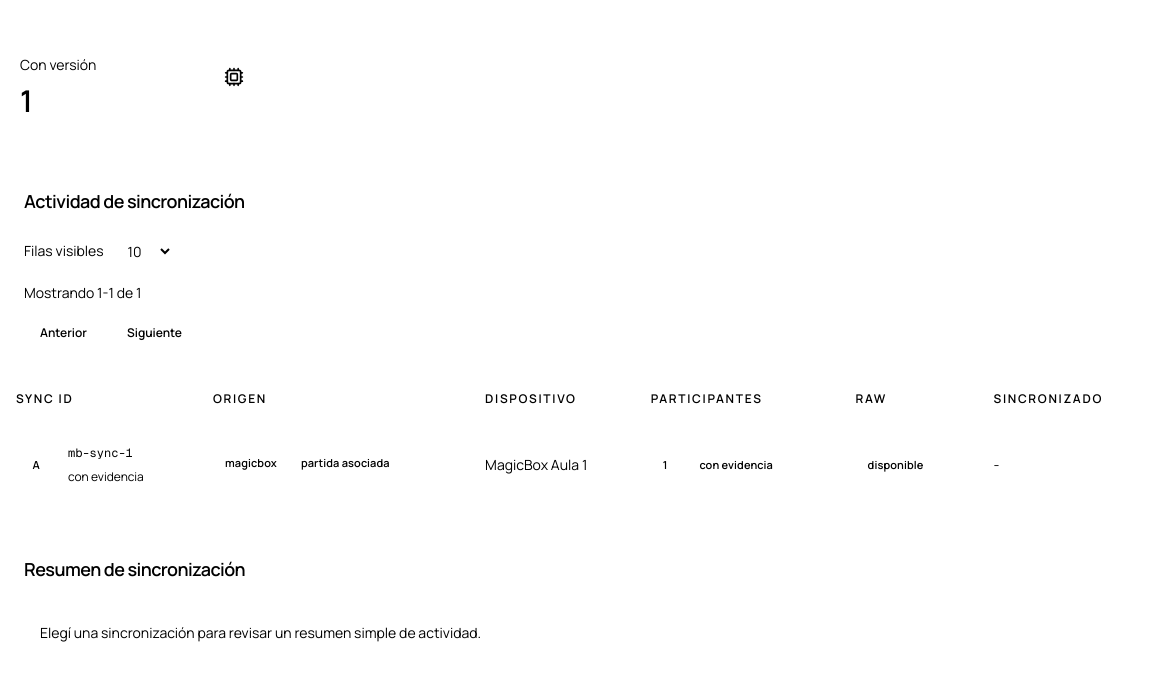
Scenario: SyncsTable › adapts the syncs view to a simplified family reading
(page scrolled)
Step 1. Click the text "mb-sync-1" → (106,453), box [68,441,144,465]
(page scrolled)
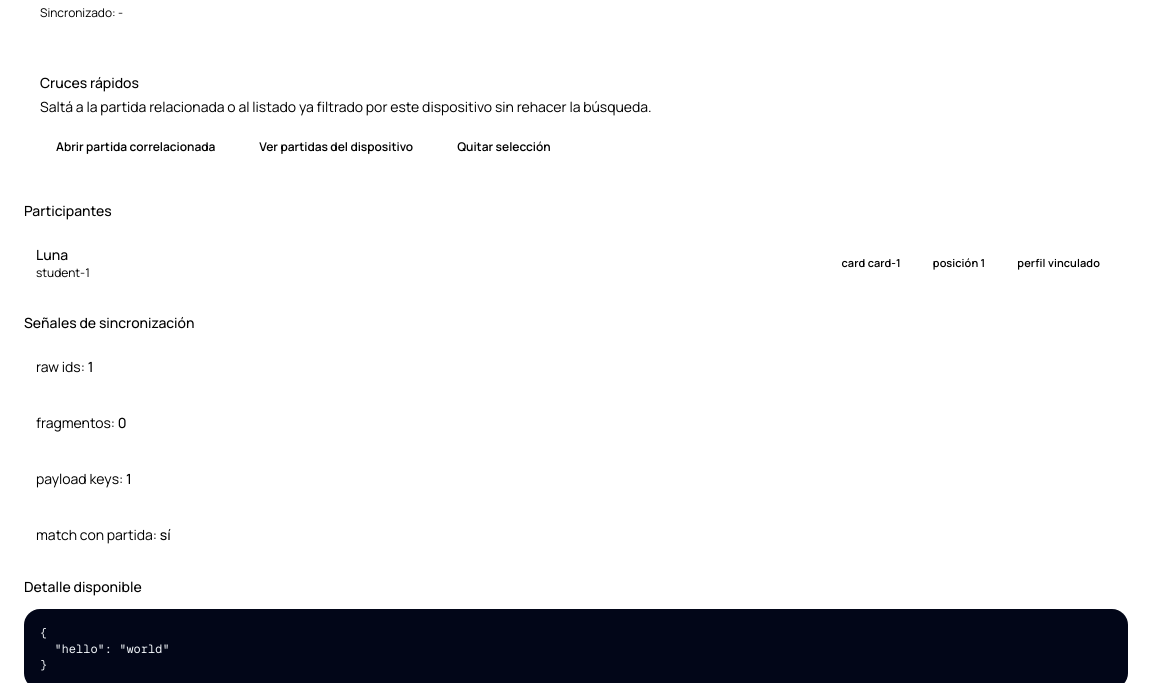
Expected: the text "Señales de sincronización" is shown, [24,313,194,332]
